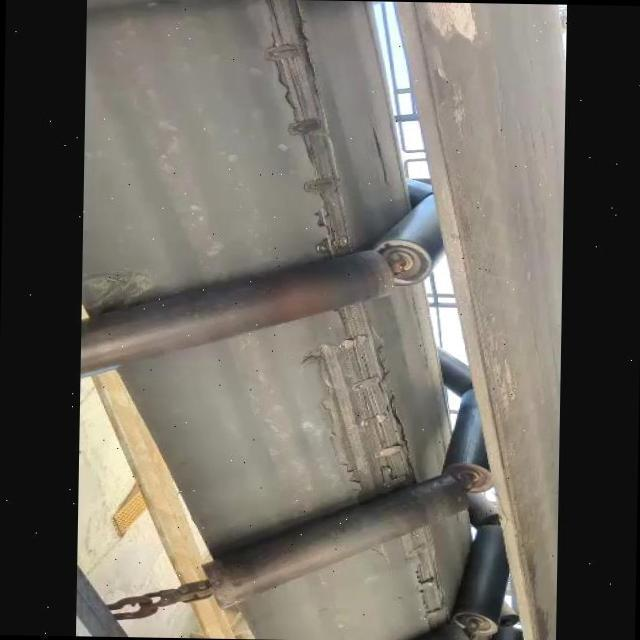Tear: (259, 0, 365, 255), (300, 304, 430, 492), (400, 526, 450, 629)
Wear: (80, 263, 160, 316)
